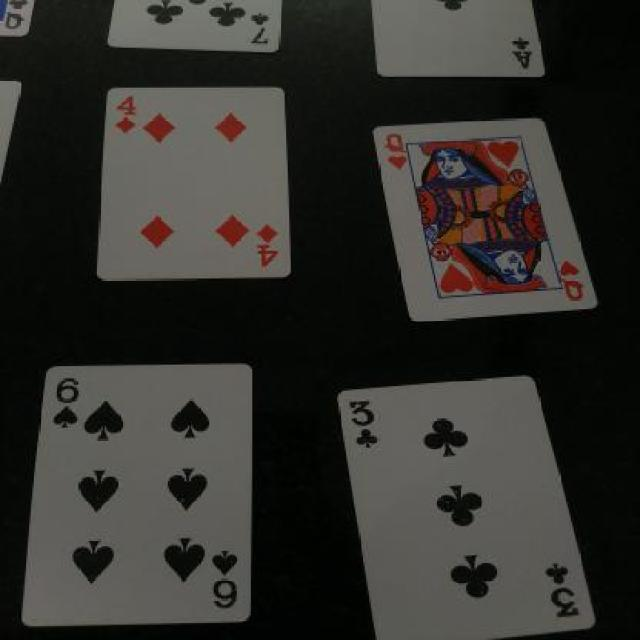3C: (545, 561, 583, 620)
4D: (103, 83, 160, 148), (253, 221, 284, 267)
6S: (207, 548, 250, 616), (52, 368, 82, 434)
QH: (369, 130, 422, 192), (338, 397, 385, 458), (554, 251, 587, 304)
